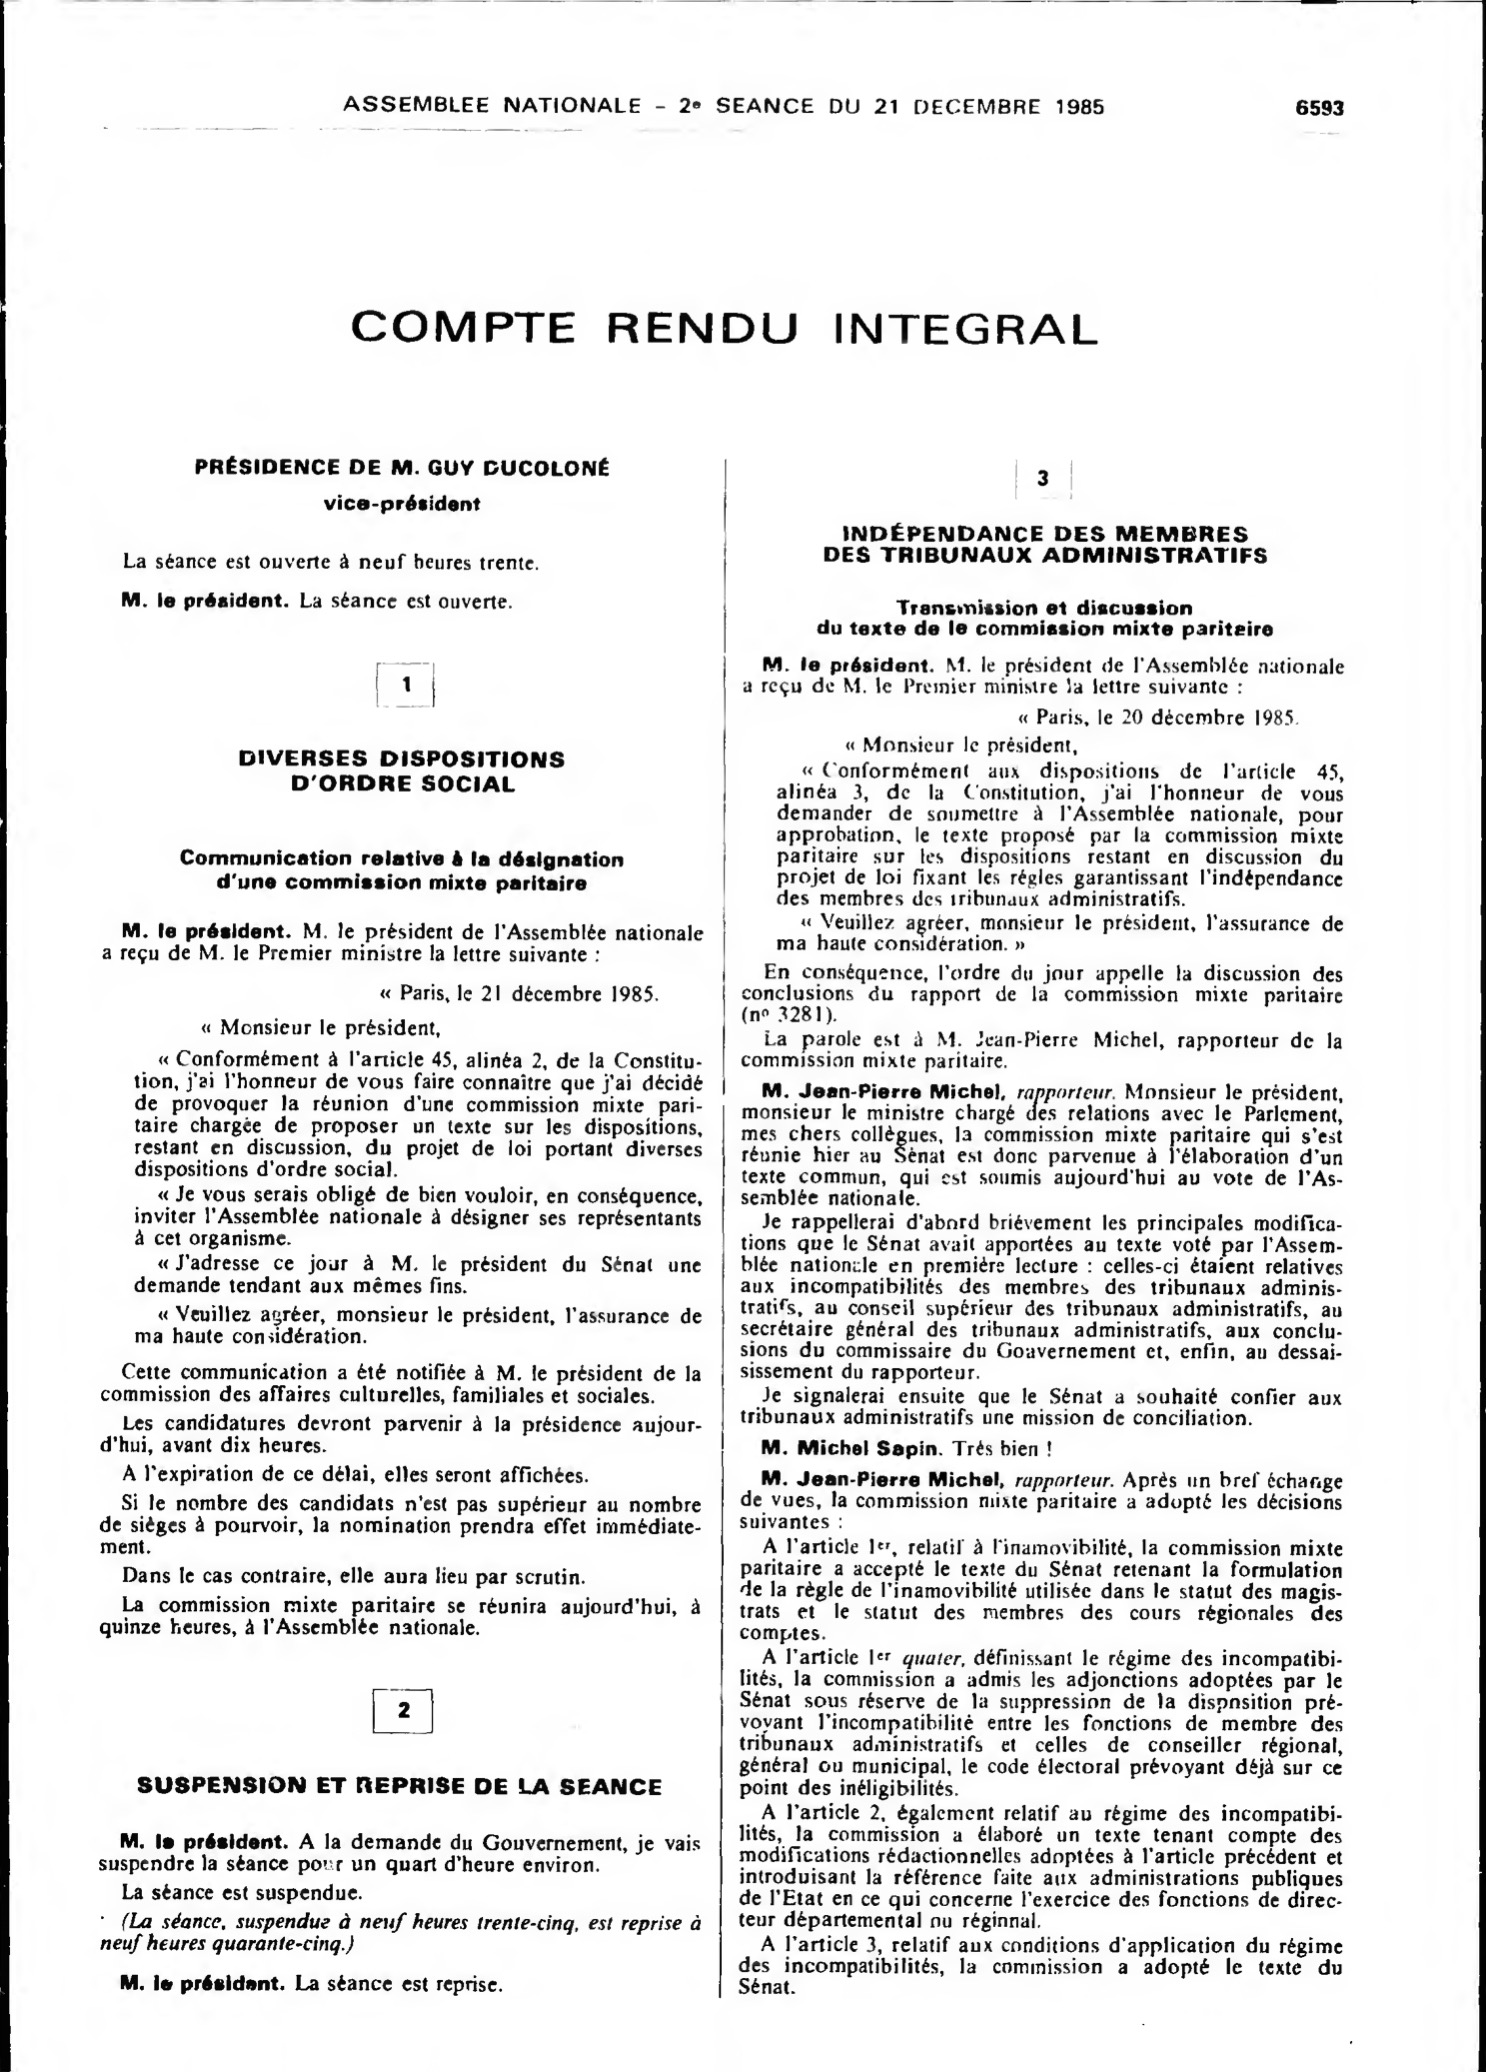MainZone-Date: (371, 978, 661, 1011), (1009, 702, 1303, 731)
MainZone-Head: (333, 291, 1102, 365), (179, 447, 611, 519), (169, 842, 629, 901), (809, 517, 1277, 570), (800, 595, 1282, 643), (128, 1765, 670, 1803), (228, 738, 571, 797), (376, 660, 436, 708), (1015, 456, 1070, 498)
MainZone-P: (733, 1210, 1348, 1384), (733, 1645, 1348, 1799), (755, 759, 1350, 910), (732, 1799, 1347, 1932), (736, 1077, 1350, 1209), (126, 1044, 708, 1181), (733, 1534, 1349, 1644), (94, 1490, 704, 1560), (736, 958, 1350, 1027), (733, 1933, 1349, 2001), (734, 1467, 1349, 1535), (125, 1180, 707, 1250), (91, 1592, 702, 1646), (93, 1907, 701, 1959), (90, 1826, 699, 1877), (93, 1359, 707, 1409), (93, 914, 707, 963), (735, 1384, 1347, 1433), (739, 650, 1350, 699), (121, 1300, 706, 1351), (736, 1027, 1347, 1074), (126, 1250, 708, 1299), (92, 1411, 706, 1457), (765, 910, 1349, 957), (94, 1877, 694, 1906), (93, 1458, 620, 1490), (92, 1561, 615, 1591), (103, 1968, 509, 2000), (748, 1433, 1060, 1464), (193, 1011, 446, 1042), (826, 732, 1084, 760)
NumberingZone: (1285, 91, 1351, 123)
RunningTitleZone: (323, 80, 1118, 128)
